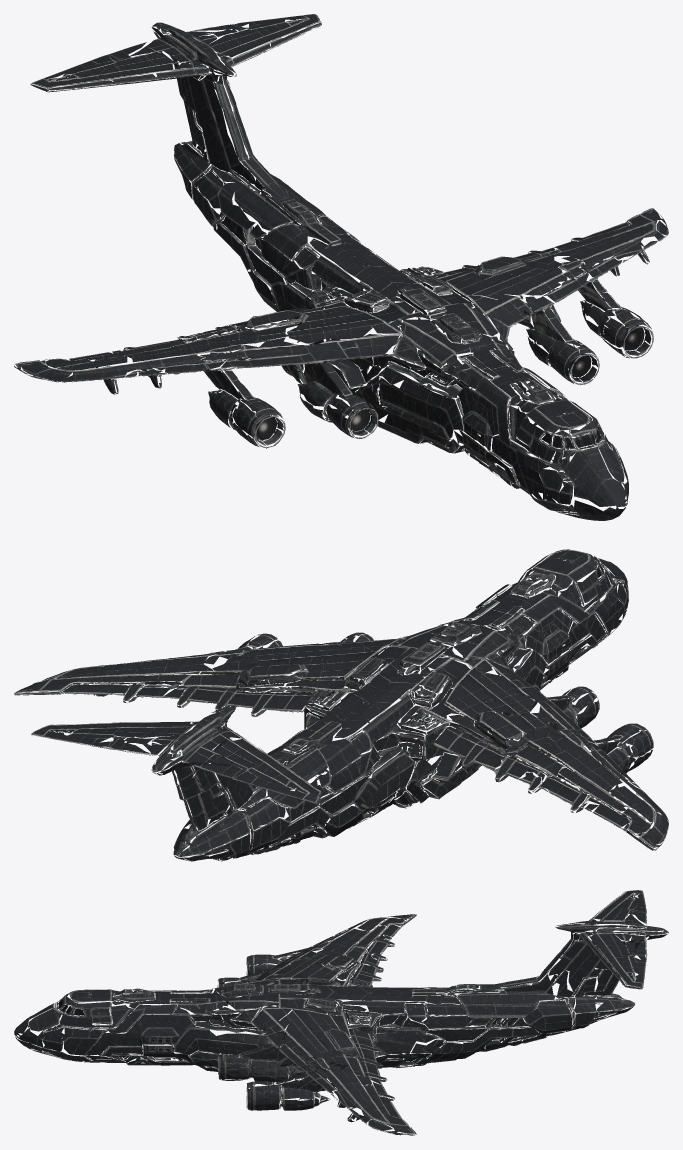
File: c5-armored.glb
3 renders of one model, top to bottom at view 1: azimuth 30°, elevation 25°; view 2: azimuth 150°, elevation 25°; view 3: azimuth 270°, elevation 25°, orthographic. The views are drawn at different scales.
Size of the model in its own units: 1.51 by 0.4573 by 1.9.
Materials: 1 (1 with a texture image).
